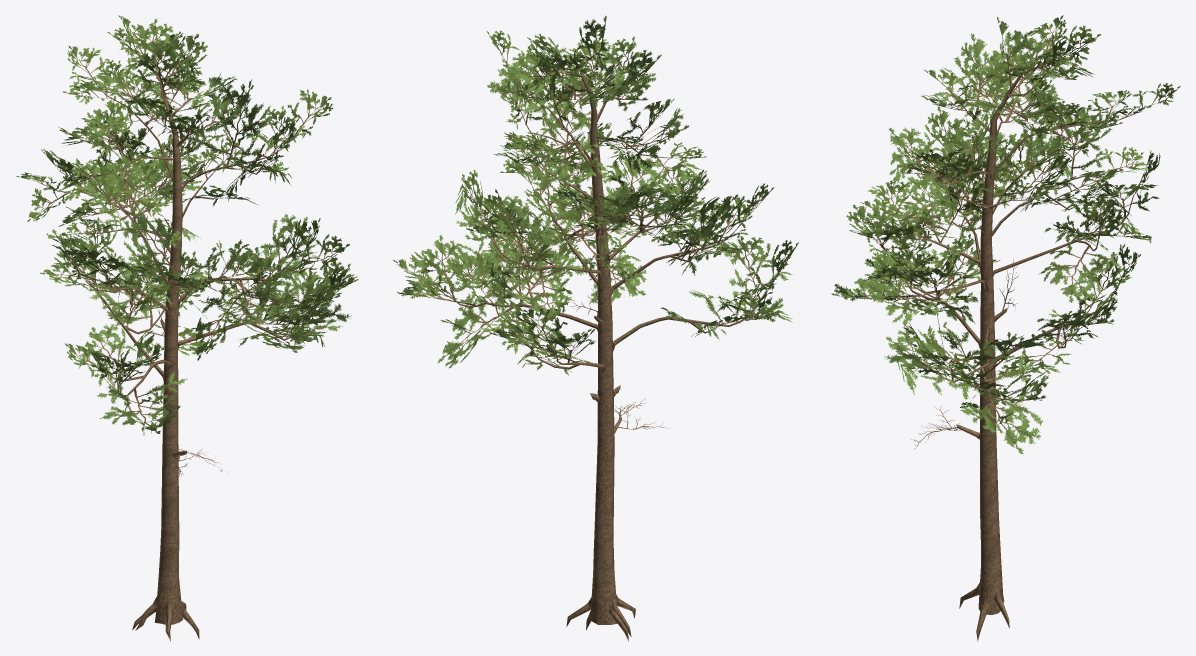
The picture shows the model from 3 angles, left to right: view 1: azimuth 30°, elevation 25°; view 2: azimuth 150°, elevation 25°; view 3: azimuth 270°, elevation 25°; orthographic projection. The views are drawn at different scales.
Parts seen in each view (by area): view 1: Pine_big_2_LOD1_Bark_Mat_0; view 2: Pine_big_2_LOD1_Bark_Mat_0; view 3: Pine_big_2_LOD1_Bark_Mat_0.
Part boxes in pixels (left/top/right/bottom): Pine_big_2_LOD1_Bark_Mat_0: left=16, top=15, right=358, bottom=641; Pine_big_2_LOD1_Bark_Mat_0: left=393, top=15, right=798, bottom=641; Pine_big_2_LOD1_Bark_Mat_0: left=831, top=15, right=1180, bottom=641.
Size of the model in its own units: 9.31 by 16.19 by 8.48.
